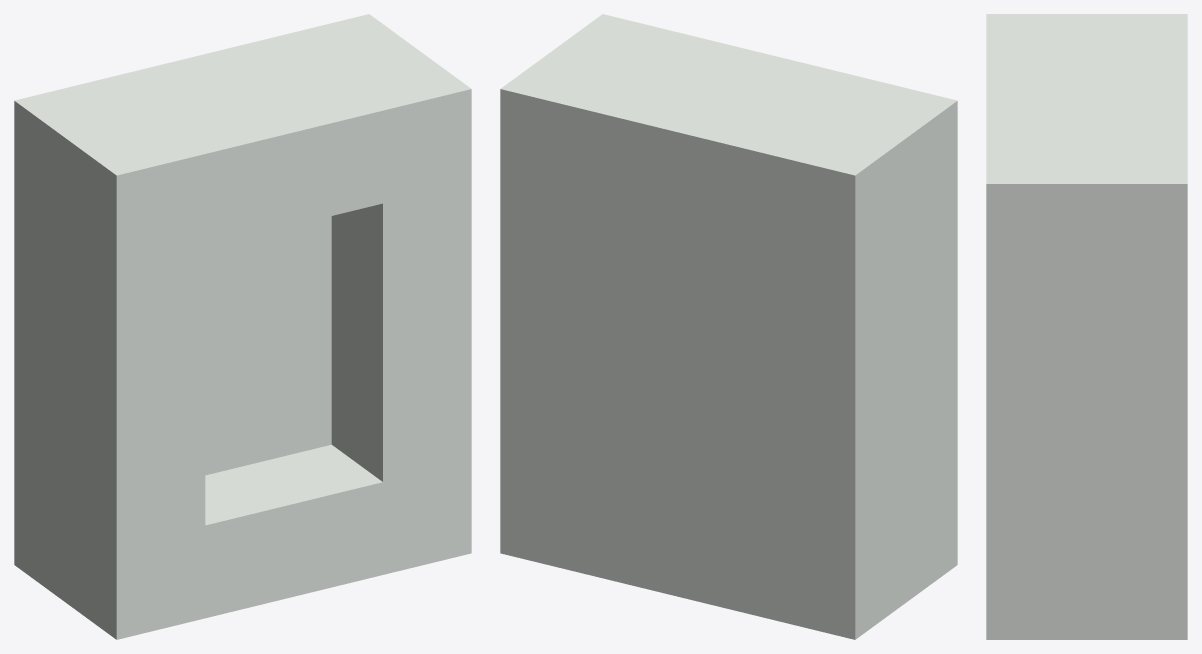
Rendered from picture.obj.
3 renders of one model, left to right at view 1: azimuth 30°, elevation 25°; view 2: azimuth 150°, elevation 25°; view 3: azimuth 270°, elevation 25°, orthographic.
Size of the model in its own units: 0.4 by 0.5 by 0.2.
Materials: 1 (1 with a texture image).
